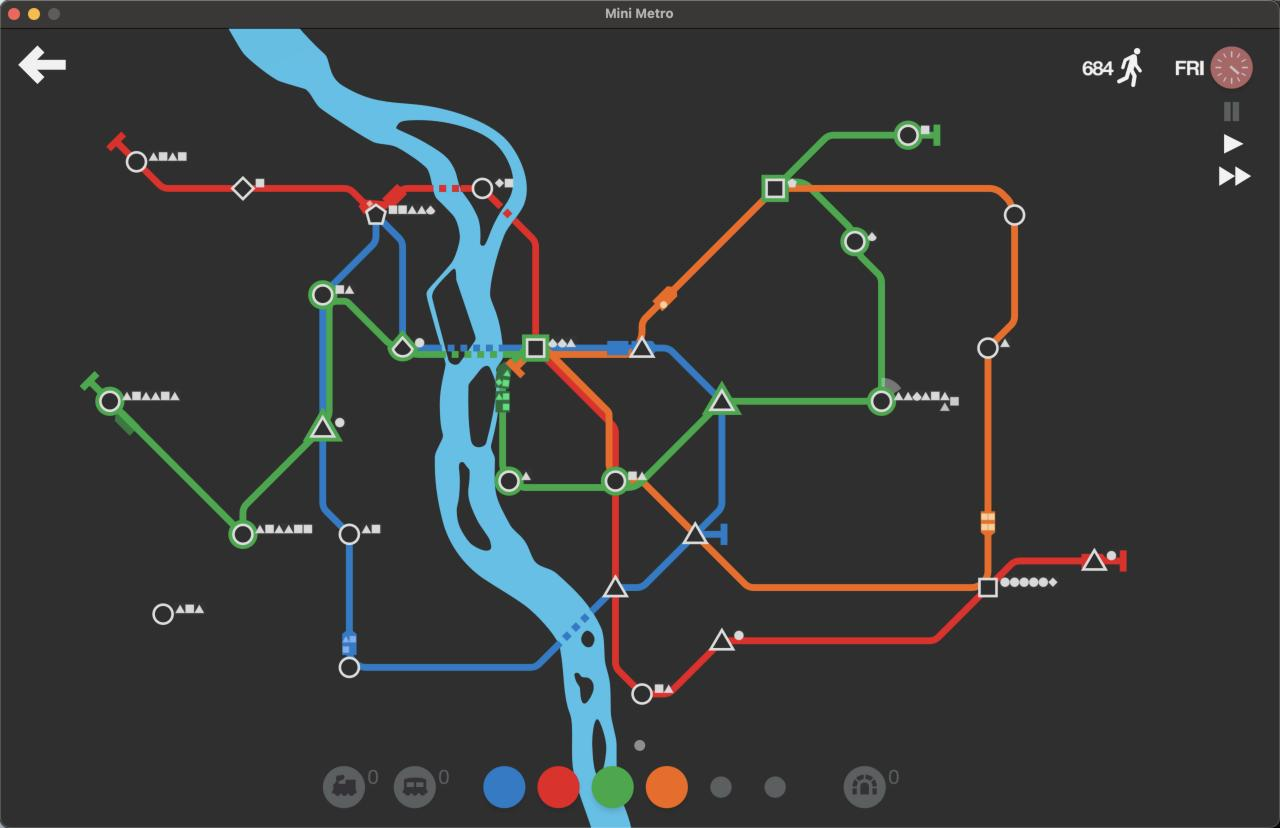CIRCLE: (228, 521, 257, 549), (841, 228, 869, 256), (895, 120, 922, 149), (308, 280, 335, 309), (496, 467, 523, 495), (602, 467, 629, 494), (97, 388, 123, 416), (868, 388, 894, 416), (977, 336, 1000, 360), (125, 150, 148, 173), (471, 177, 494, 200), (152, 603, 174, 626), (631, 683, 654, 705), (338, 656, 360, 679), (1004, 204, 1026, 227), (338, 523, 360, 545)
GEM: (231, 176, 256, 201)
PENTAGON: (364, 203, 387, 225)
SQUARE: (523, 334, 550, 361), (763, 176, 787, 202), (978, 577, 998, 597)
TRIANGLE: (707, 384, 738, 415), (307, 412, 339, 441), (709, 627, 737, 652), (1081, 547, 1109, 572), (681, 520, 709, 544), (628, 336, 656, 359), (603, 575, 629, 598)
WEDGE: (390, 335, 416, 360)
